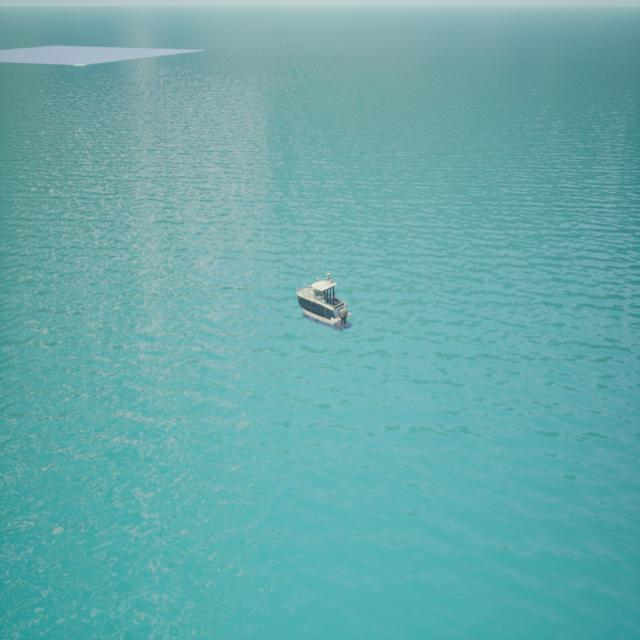ship: (297, 274, 348, 332)
